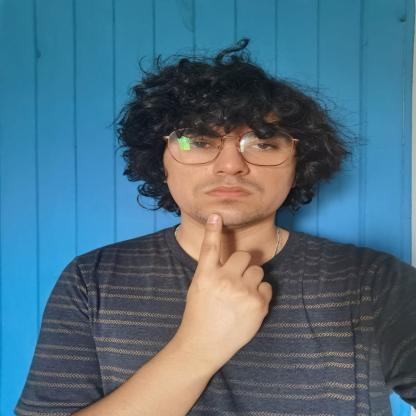T: (190, 214, 273, 353)
